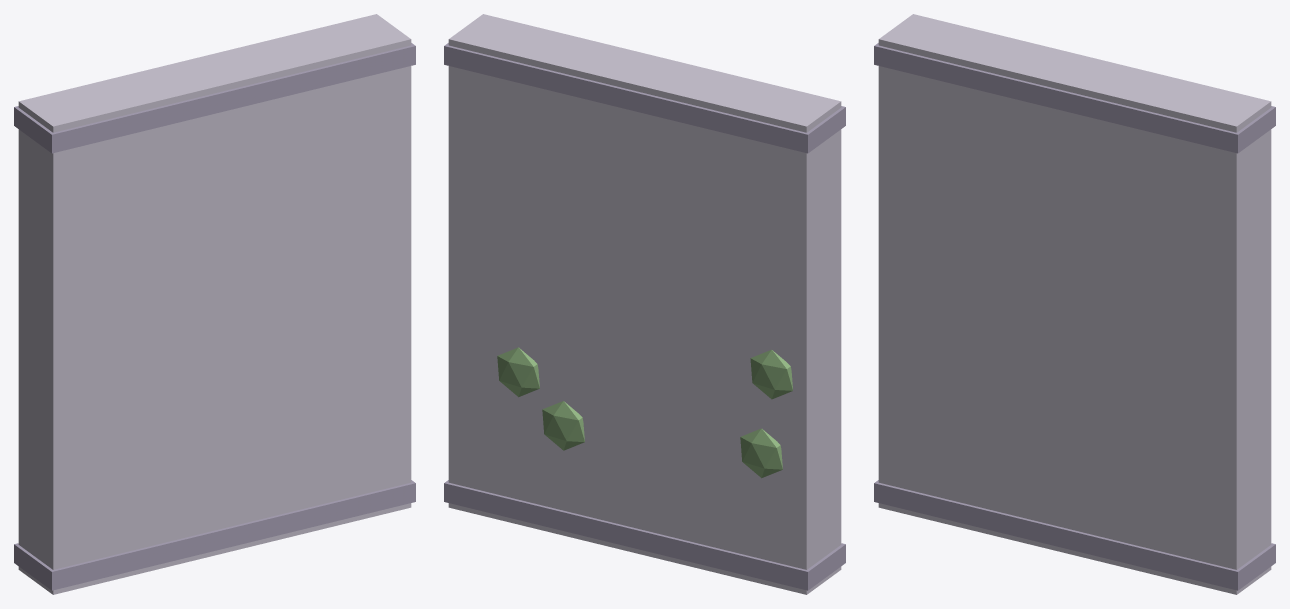
The model's file is Wall_LevelBoundary.fbx.
3 views of the same model, side by side, from view 1: azimuth 30°, elevation 25°; view 2: azimuth 150°, elevation 25°; view 3: azimuth 330°, elevation 25° (orthographic).
Parts seen in each view (by area): view 1: Wall_LevelBoundary_Main, Wall_LevelBoundary_Trim_1.45, Wall_LevelBoundary_Trim_0.05; view 2: Wall_LevelBoundary_Main, Wall_LevelBoundary_Trim_1.45, Wall_LevelBoundary_Trim_0.05, Wall_LevelBoundary; view 3: Wall_LevelBoundary_Main, Wall_LevelBoundary_Trim_1.45, Wall_LevelBoundary_Trim_0.05.
Boxes of the visible parts, x1,y1,x2,y2 form: Wall_LevelBoundary_Main: [18, 14, 411, 594]; Wall_LevelBoundary_Trim_1.45: [14, 43, 415, 153]; Wall_LevelBoundary_Trim_0.05: [14, 480, 415, 590]; Wall_LevelBoundary_Main: [448, 14, 841, 594]; Wall_LevelBoundary_Trim_1.45: [444, 43, 845, 153]; Wall_LevelBoundary_Trim_0.05: [444, 480, 845, 590]; Wall_LevelBoundary: [497, 347, 792, 478]; Wall_LevelBoundary_Main: [878, 14, 1271, 594]; Wall_LevelBoundary_Trim_1.45: [874, 43, 1275, 153]; Wall_LevelBoundary_Trim_0.05: [874, 480, 1275, 590].
Size of the model in its own units: 1.22 by 1.5 by 0.2404.
